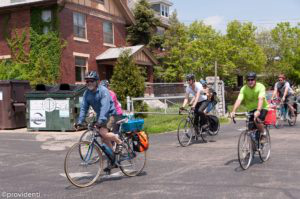bikerider: (56, 67, 151, 186), (226, 69, 276, 171), (171, 75, 220, 147), (268, 71, 300, 128)
